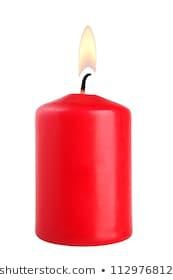fire: (77, 24, 95, 73)
